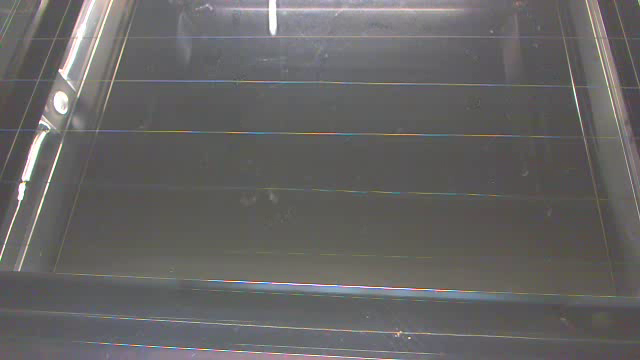Alfa: (260, 1, 285, 38)
